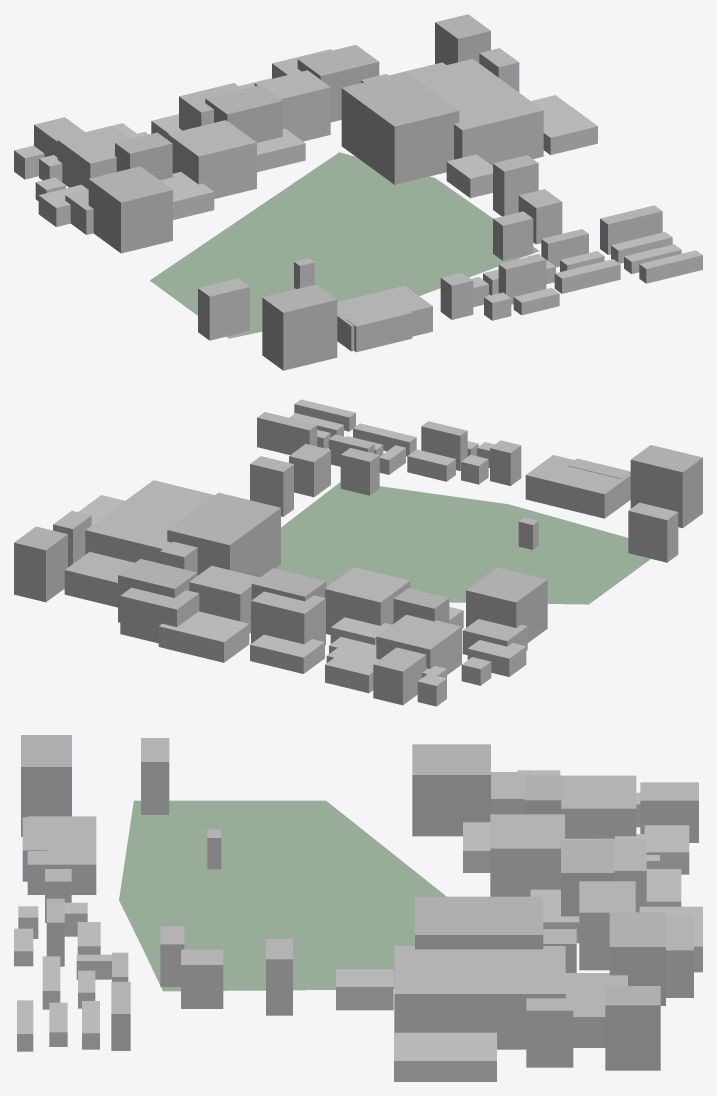
File: 127_100_mid.glb
The picture shows the model from 3 angles, top to bottom: view 1: azimuth 30°, elevation 25°; view 2: azimuth 150°, elevation 25°; view 3: azimuth 270°, elevation 25°; orthographic projection. The views are drawn at different scales.
Size of the model in its own units: 530 by 61.13 by 530.
